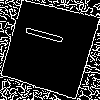I: (24, 23, 74, 50)
